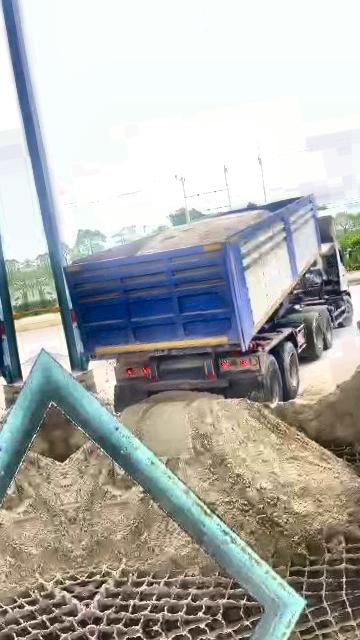sand: (123, 392, 360, 562), (62, 442, 214, 569), (274, 359, 360, 447), (139, 209, 268, 254), (52, 403, 87, 462), (92, 361, 113, 412)
